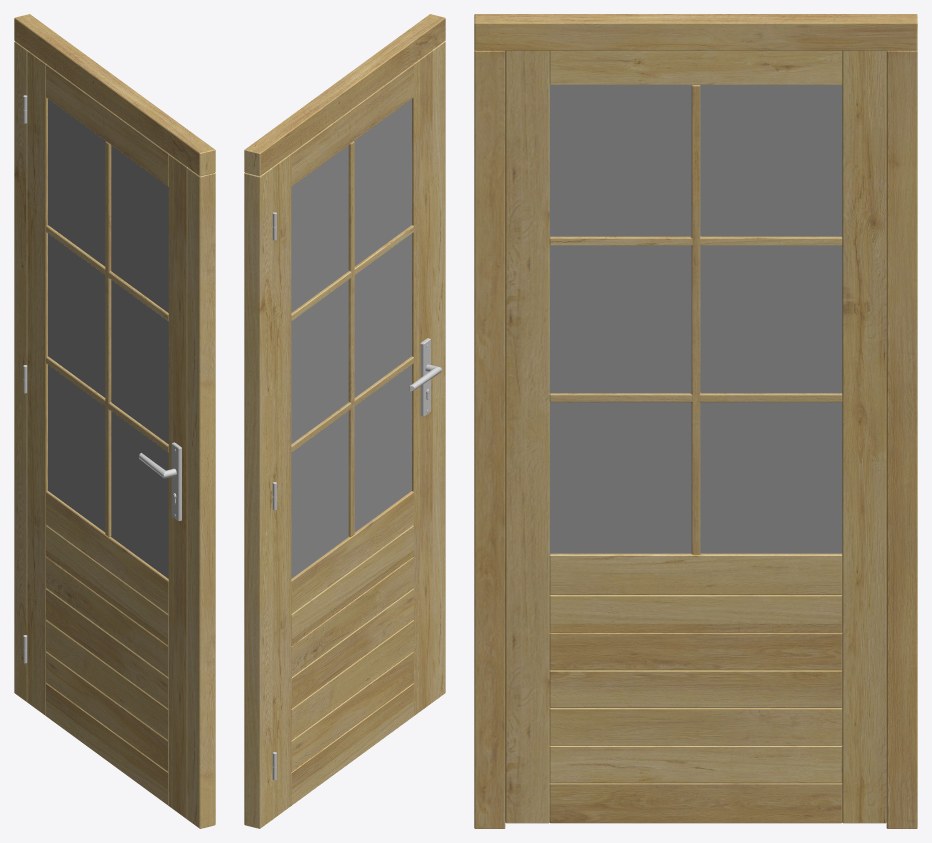
File: door_stapeldorpeldeur.glb
The picture shows the model from 3 angles, left to right: view 1: azimuth 30°, elevation 25°; view 2: azimuth 150°, elevation 25°; view 3: azimuth 270°, elevation 25°; orthographic projection. The views are drawn at different scales.
Visible parts, largest first — view 1: door_stapeldorpeldeur_wood, door_stapeldorpeldeur_glass, door_stapeldorpeldeur_hingles; view 2: door_stapeldorpeldeur_wood, door_stapeldorpeldeur_glass, door_stapeldorpeldeur_hingles; view 3: door_stapeldorpeldeur_wood, door_stapeldorpeldeur_glass.
Part boxes in pixels (<box>): door_stapeldorpeldeur_wood: <box>14,14,215,828</box>; door_stapeldorpeldeur_glass: <box>48,99,168,578</box>; door_stapeldorpeldeur_hingles: <box>23,95,181,663</box>; door_stapeldorpeldeur_wood: <box>244,14,445,828</box>; door_stapeldorpeldeur_glass: <box>291,99,411,578</box>; door_stapeldorpeldeur_hingles: <box>272,212,441,780</box>; door_stapeldorpeldeur_wood: <box>474,14,917,828</box>; door_stapeldorpeldeur_glass: <box>549,85,842,553</box>.
Bounding box in the file's own units: 0.1007 × 2.01 × 1.
Materials: 3 (1 with a texture image).
